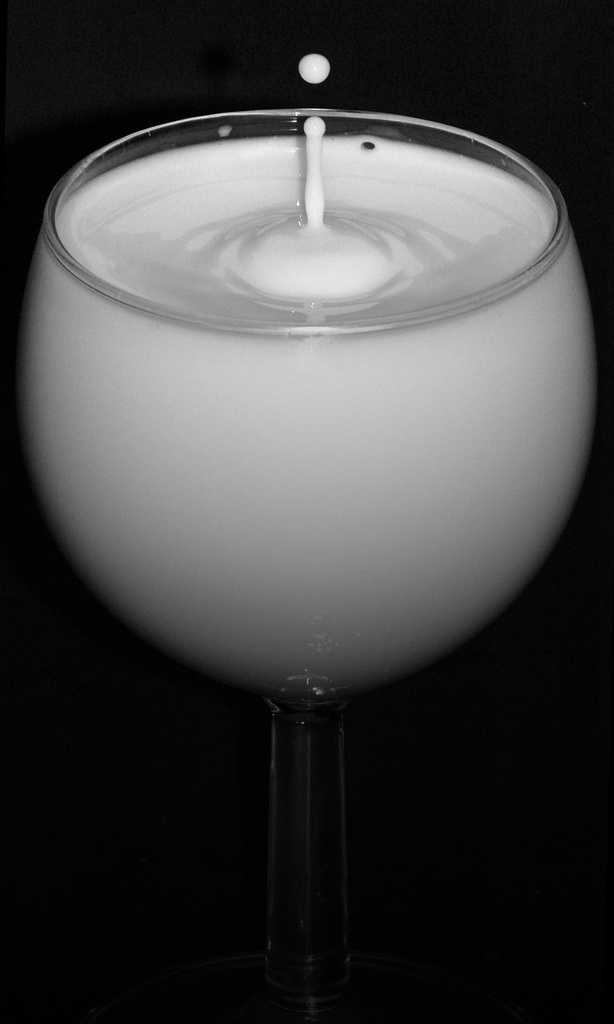glass of milk: (25, 61, 586, 699)
